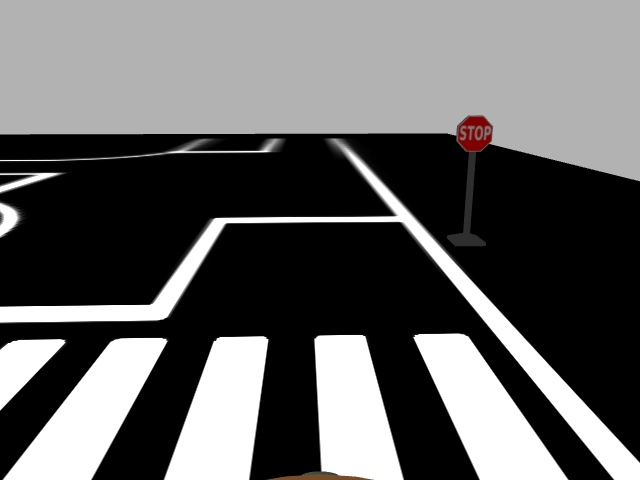stop: (453, 113, 494, 154)
